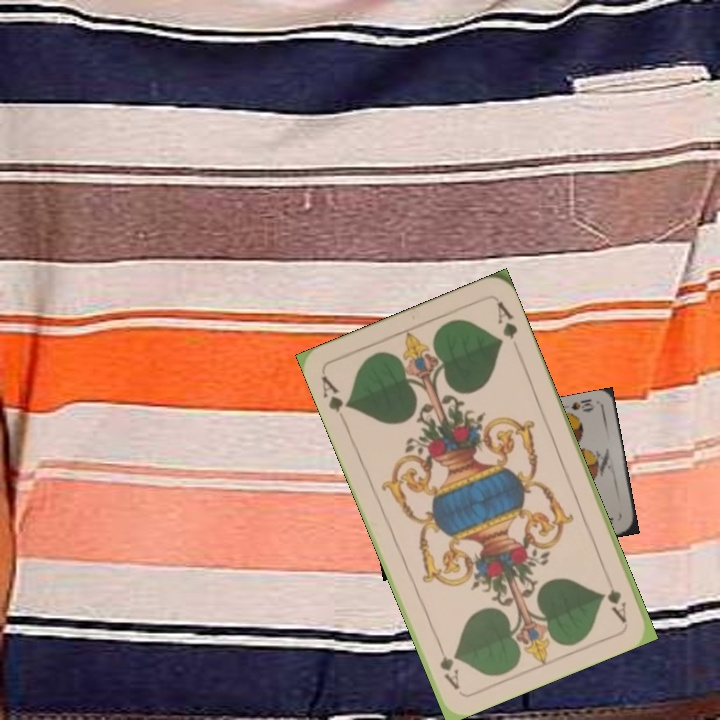GA: (317, 371, 354, 426), (602, 568, 630, 625)
S10: (558, 395, 597, 415)
